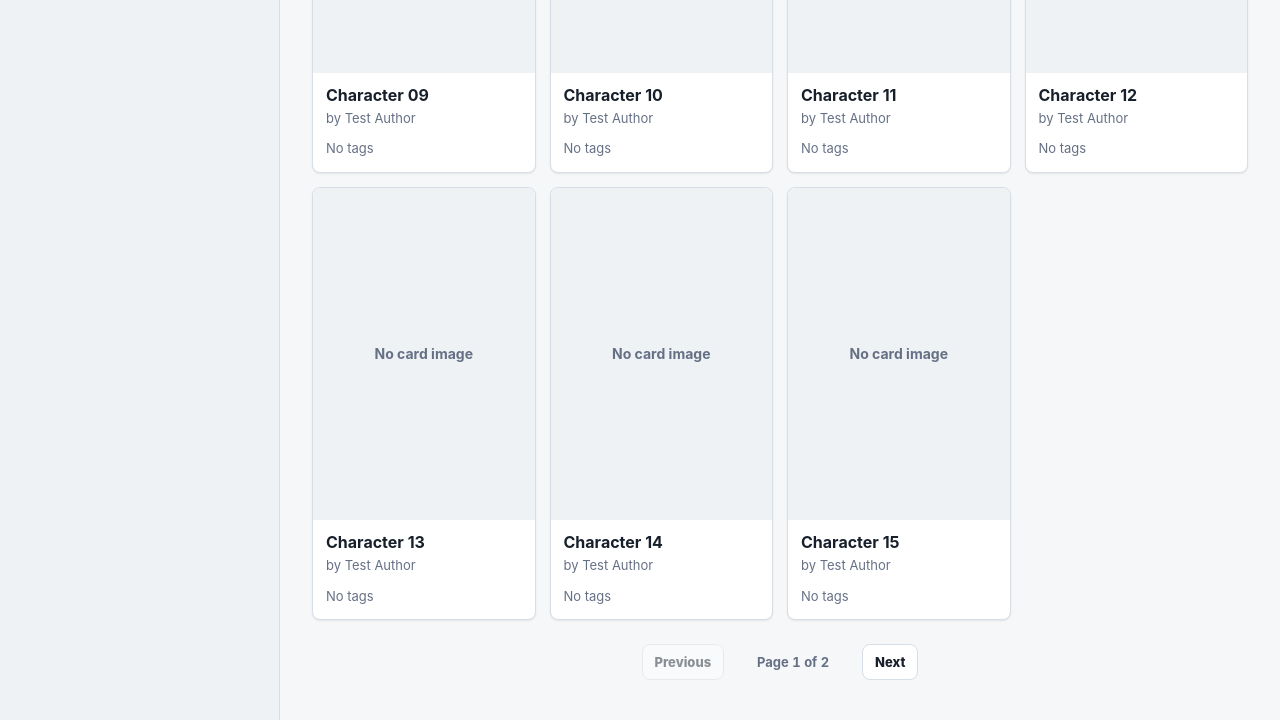
Test case: CharacterListPage › resets pagination when the search changes
(page scrolled)
Click the button "Next" at coordinates (890, 662), box 862,644 -> 918,680
(page scrolled)
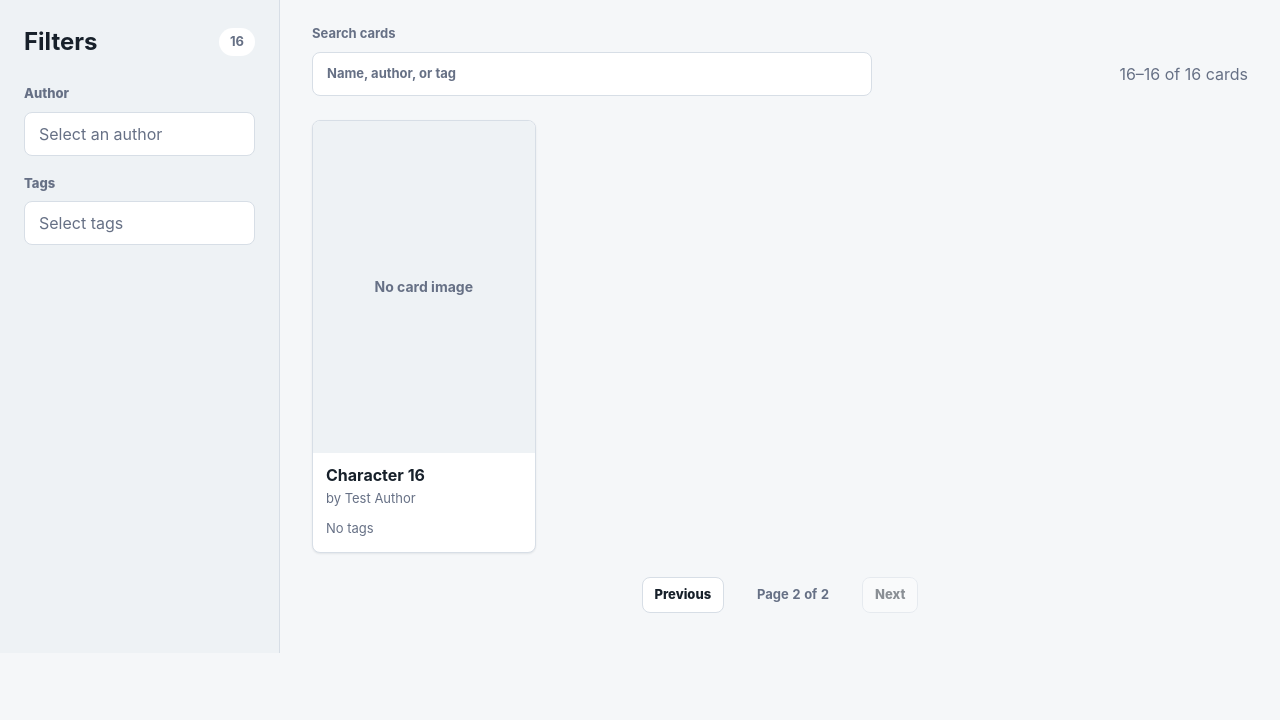
Type "A" into the search field at coordinates (592, 74), box 312,52 -> 872,96
(page scrolled)
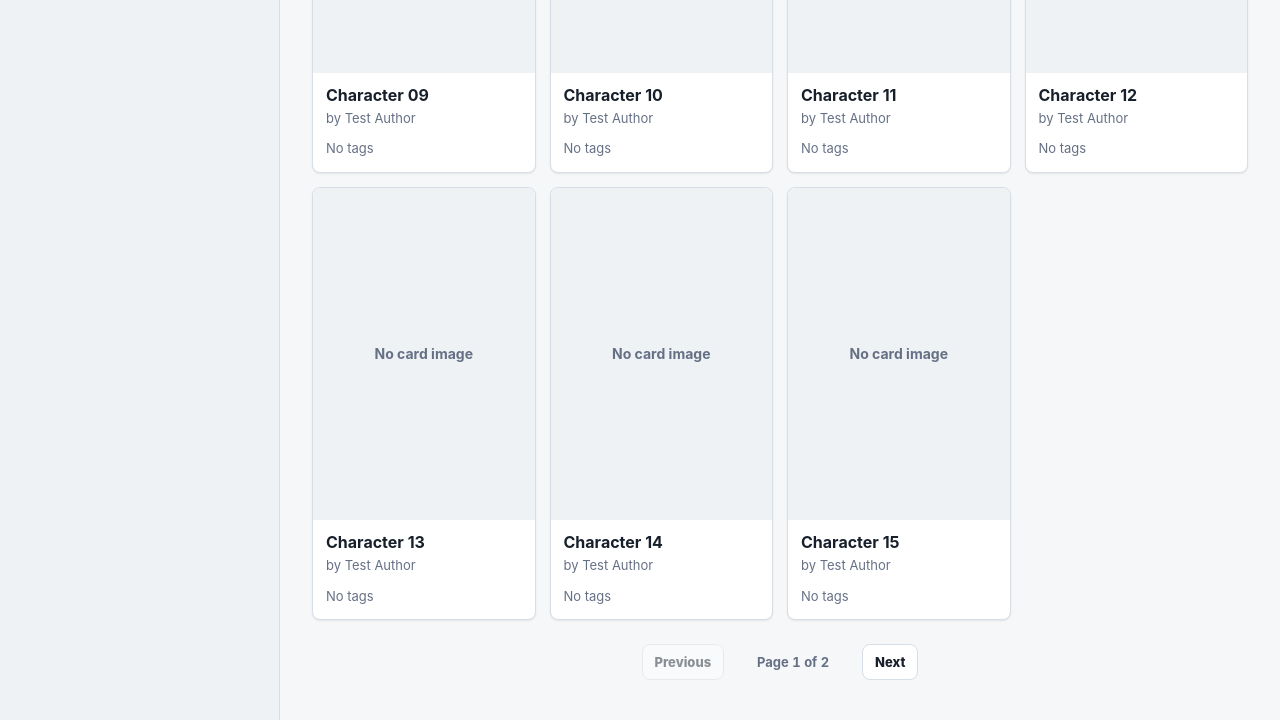
Result: the text "Page 1 of 2" is shown at 757,654 -> 829,670
